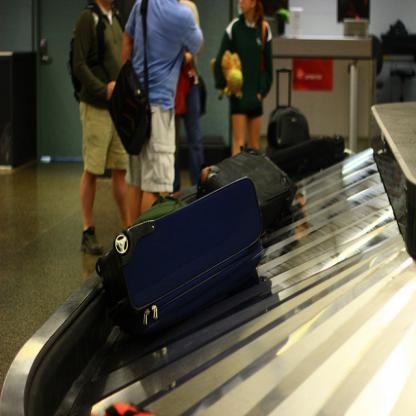backpack: (68, 0, 267, 155)
handbag: (108, 0, 156, 159), (192, 57, 208, 119), (255, 20, 267, 93)
suitcase: (101, 175, 263, 340), (196, 143, 299, 233), (266, 69, 310, 155), (271, 137, 346, 185)
